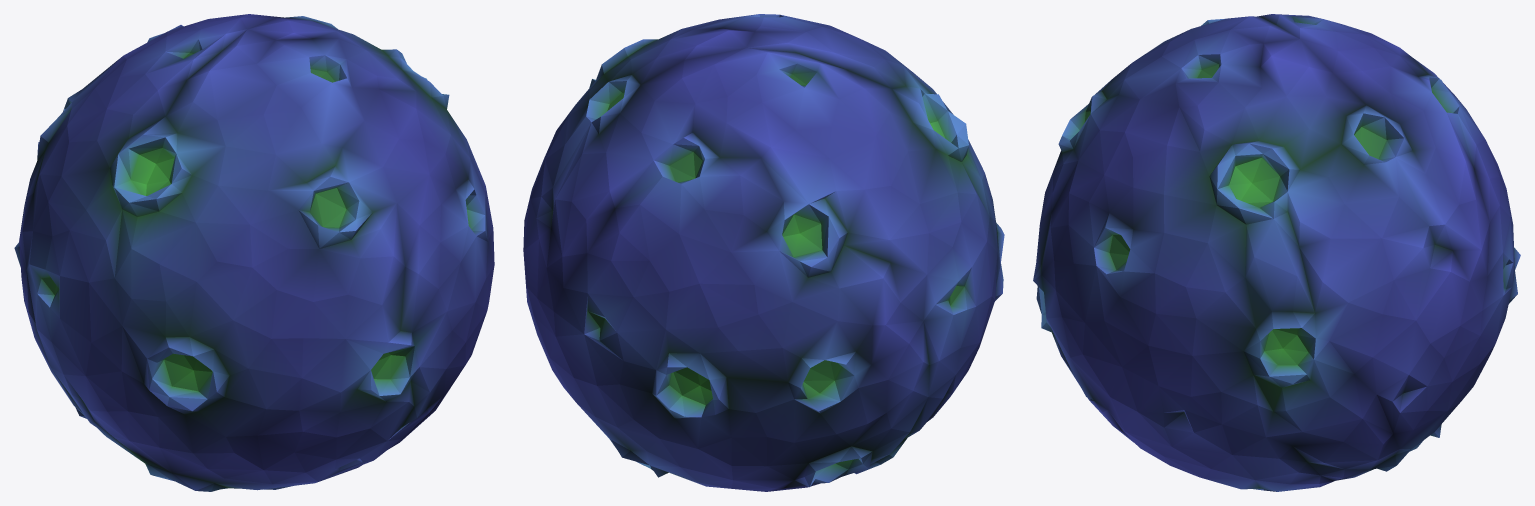
The model's file is moon30.fbx.
3 views of the same model, side by side, from view 1: azimuth 30°, elevation 25°; view 2: azimuth 150°, elevation 25°; view 3: azimuth 270°, elevation 25° (orthographic).
Parts seen in each view (by area): view 1: attribblur1; view 2: attribblur1; view 3: attribblur1.
Part boxes in pixels (bbox=[...]): attribblur1: bbox=[14, 14, 494, 491]; attribblur1: bbox=[523, 14, 1004, 491]; attribblur1: bbox=[1033, 14, 1520, 491].
Size of the model in its own units: 0.9594 by 0.9446 by 0.9682.
